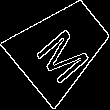M_NE: (28, 14, 94, 81)
